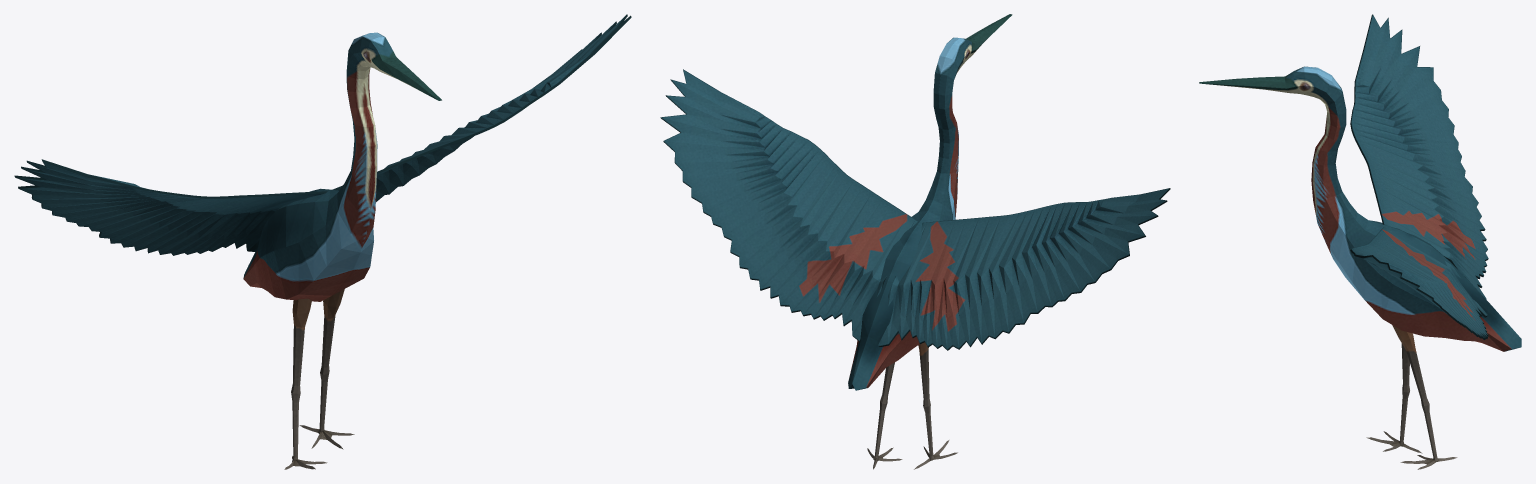
File: Agami_Heron_01.FBX
3 renders of one model, left to right at view 1: azimuth 30°, elevation 25°; view 2: azimuth 150°, elevation 25°; view 3: azimuth 270°, elevation 25°, orthographic. The views are drawn at different scales.
Parts seen in each view (by area): view 1: Agami_Heron_01, Agami_Heron_Right_Wing_01, Agami_Heron_Left_Wing_01, Agami_Heron_Right_Leg_01, Agami_Heron_Left_Leg_01; view 2: Agami_Heron_Left_Wing_01, Agami_Heron_Right_Wing_01, Agami_Heron_01, Agami_Heron_Right_Leg_01, Agami_Heron_Left_Leg_01; view 3: Agami_Heron_Right_Wing_01, Agami_Heron_01, Agami_Heron_Left_Wing_01, Agami_Heron_Left_Leg_01, Agami_Heron_Right_Leg_01.
Boxes of the visible parts, x1=… form: Agami_Heron_01: x1=243, y1=32, x2=441, y2=301; Agami_Heron_Right_Wing_01: x1=14, y1=159, x2=327, y2=255; Agami_Heron_Left_Wing_01: x1=332, y1=14, x2=631, y2=201; Agami_Heron_Right_Leg_01: x1=284, y1=298, x2=327, y2=469; Agami_Heron_Left_Leg_01: x1=299, y1=289, x2=354, y2=449; Agami_Heron_Left_Wing_01: x1=660, y1=69, x2=918, y2=341; Agami_Heron_Right_Wing_01: x1=878, y1=188, x2=1170, y2=350; Agami_Heron_01: x1=848, y1=14, x2=1012, y2=390; Agami_Heron_Right_Leg_01: x1=914, y1=342, x2=957, y2=469; Agami_Heron_Left_Leg_01: x1=867, y1=362, x2=902, y2=469; Agami_Heron_Right_Wing_01: x1=1350, y1=14, x2=1488, y2=299; Agami_Heron_01: x1=1199, y1=66, x2=1521, y2=351; Agami_Heron_Left_Wing_01: x1=1350, y1=227, x2=1488, y2=339; Agami_Heron_Left_Leg_01: x1=1392, y1=325, x2=1457, y2=469; Agami_Heron_Right_Leg_01: x1=1366, y1=343, x2=1422, y2=453.
Size of the model in its own units: 35.07 by 26.06 by 19.46.
